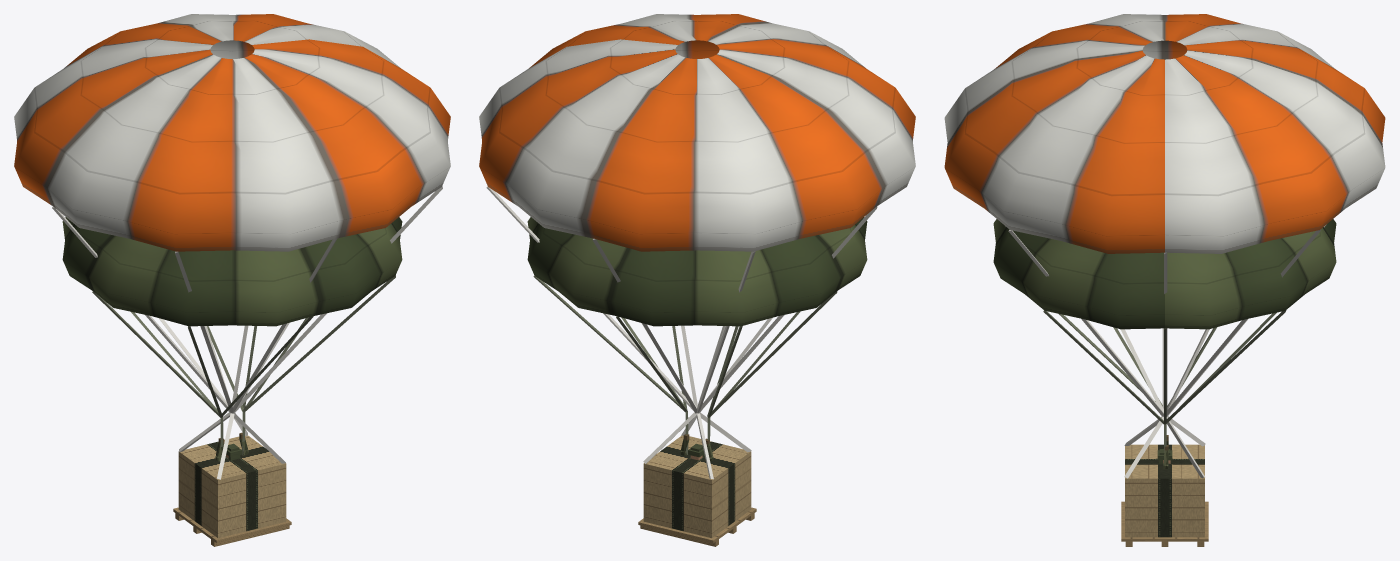
The model's file is ACO_AirDrop.fbx.
3 renders of one model, left to right at view 1: azimuth 30°, elevation 25°; view 2: azimuth 150°, elevation 25°; view 3: azimuth 270°, elevation 25°, orthographic.
Parts seen in each view (by area): view 1: ACO_DropCrate, ACO_DropTrooper; view 2: ACO_DropCrate, ACO_DropTrooper; view 3: ACO_DropCrate, ACO_DropTrooper.
Boxes of the visible parts, x1,y1,x2,y2 form: ACO_DropCrate: (14,14,450,546); ACO_DropTrooper: (62,217,402,461); ACO_DropCrate: (479,14,915,546); ACO_DropTrooper: (527,217,867,461); ACO_DropCrate: (944,14,1385,546); ACO_DropTrooper: (993,219,1336,468).
Size of the model in its own units: 885 by 1067 by 885.
Materials: 1 (1 with a texture image).
